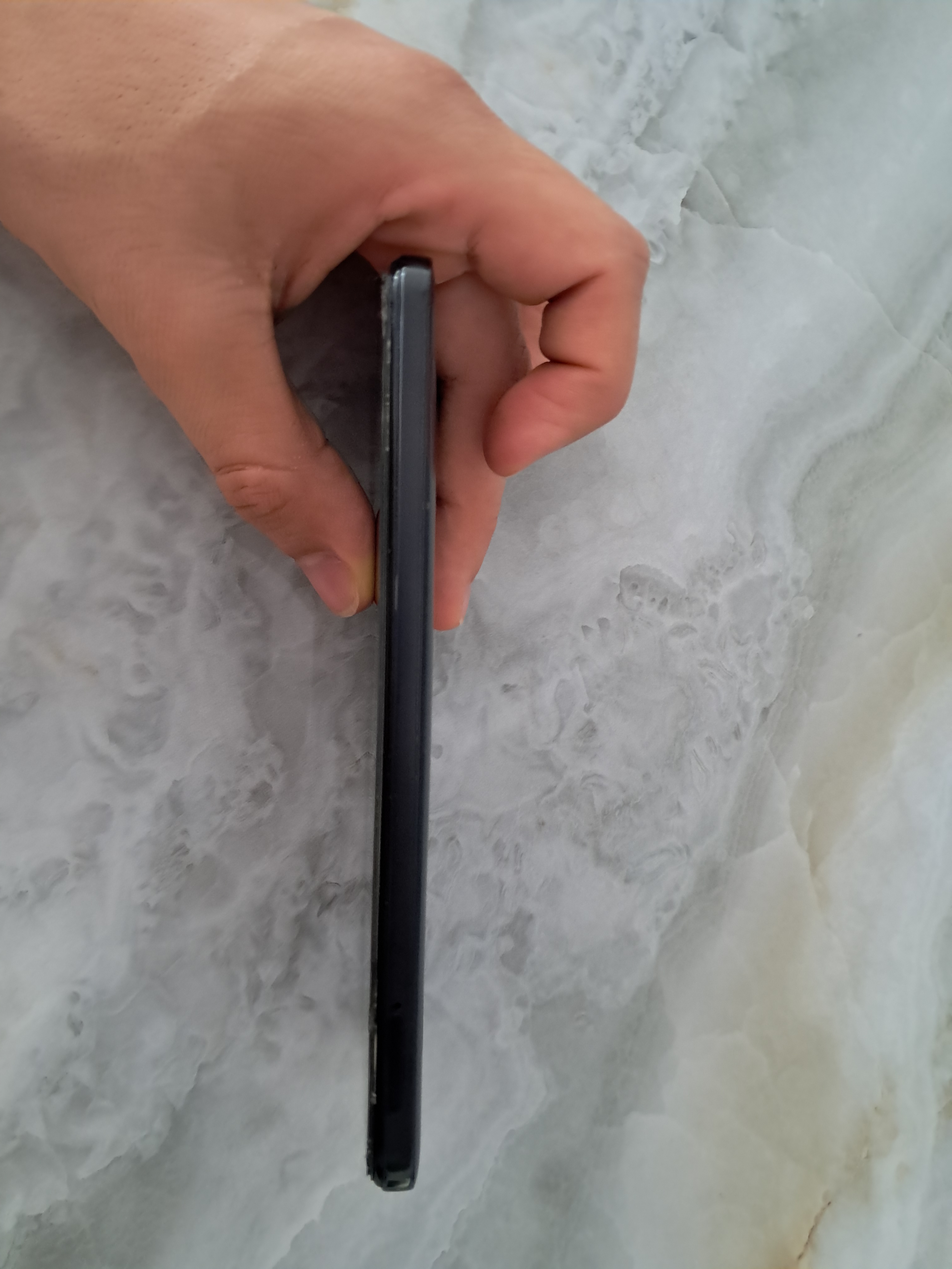phone: (367, 257, 436, 1192)
